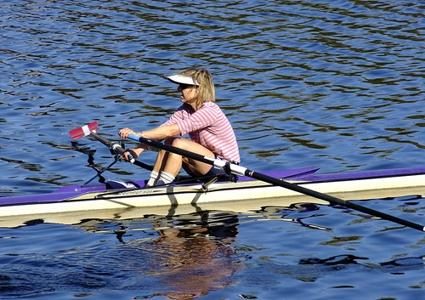person: (118, 68, 241, 188)
